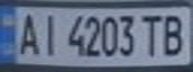0: (100, 12, 121, 59)
2: (81, 11, 103, 58)
3: (118, 11, 139, 58)
4: (63, 11, 84, 57)
A: (12, 9, 42, 56)
B: (157, 11, 190, 57)
I: (36, 10, 63, 56)
T: (136, 11, 163, 57)
